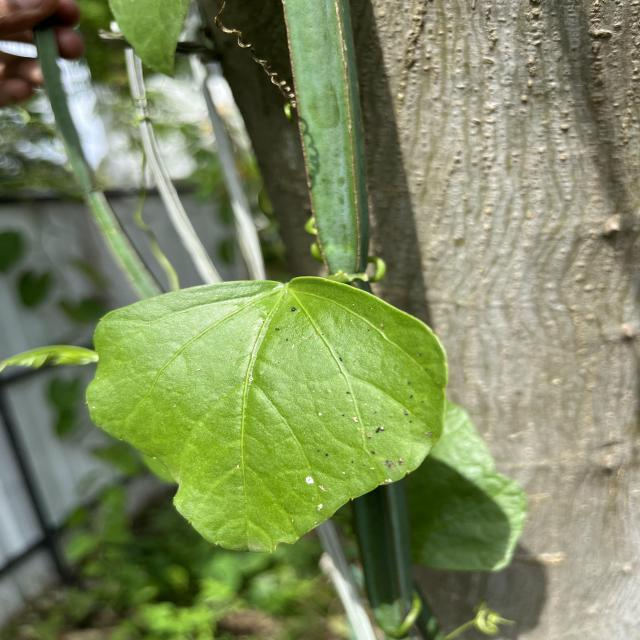Cissus quadrangularis: (80, 272, 452, 556)
